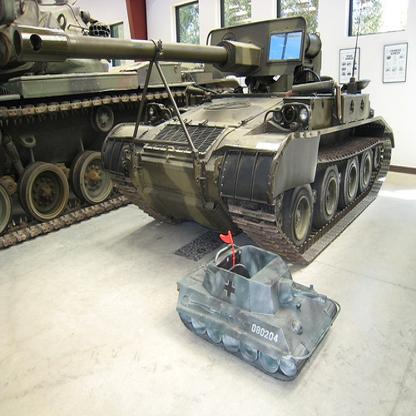Tank: (24, 12, 400, 260), (171, 243, 343, 388)
